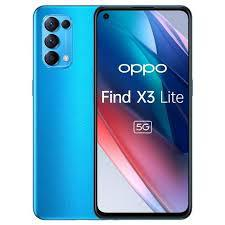Smartphone: (96, 5, 189, 223), (33, 5, 98, 220)
